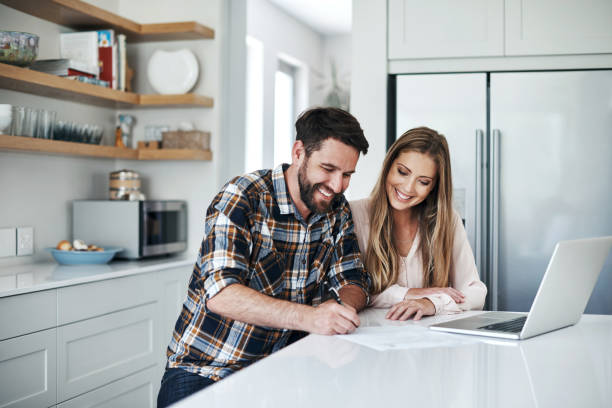without mask: (286, 128, 364, 217), (382, 132, 436, 219)
